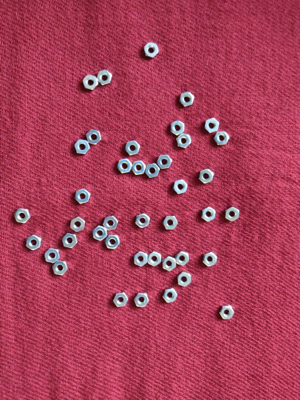nut: (74, 188, 92, 205), (143, 41, 160, 58), (82, 74, 99, 91), (26, 235, 43, 252), (97, 69, 113, 87), (73, 139, 91, 155), (14, 209, 32, 225), (179, 91, 196, 107), (204, 117, 220, 134), (156, 154, 173, 170), (172, 179, 189, 195), (124, 140, 141, 156), (130, 160, 147, 176), (86, 129, 102, 146), (135, 213, 152, 229), (61, 233, 78, 249), (176, 133, 192, 149), (214, 131, 230, 147), (199, 168, 215, 184), (116, 158, 132, 174), (163, 215, 179, 231), (103, 216, 119, 232), (92, 225, 108, 241), (44, 248, 60, 264), (133, 252, 149, 268), (146, 162, 161, 179), (69, 217, 86, 232), (170, 120, 185, 136), (106, 234, 121, 250), (163, 256, 178, 272), (177, 272, 193, 287), (113, 293, 129, 308), (163, 288, 178, 304), (203, 251, 218, 267), (52, 261, 69, 275), (202, 207, 217, 222), (225, 207, 240, 222), (148, 251, 163, 266), (135, 293, 150, 308), (220, 305, 235, 320), (176, 251, 190, 266)
